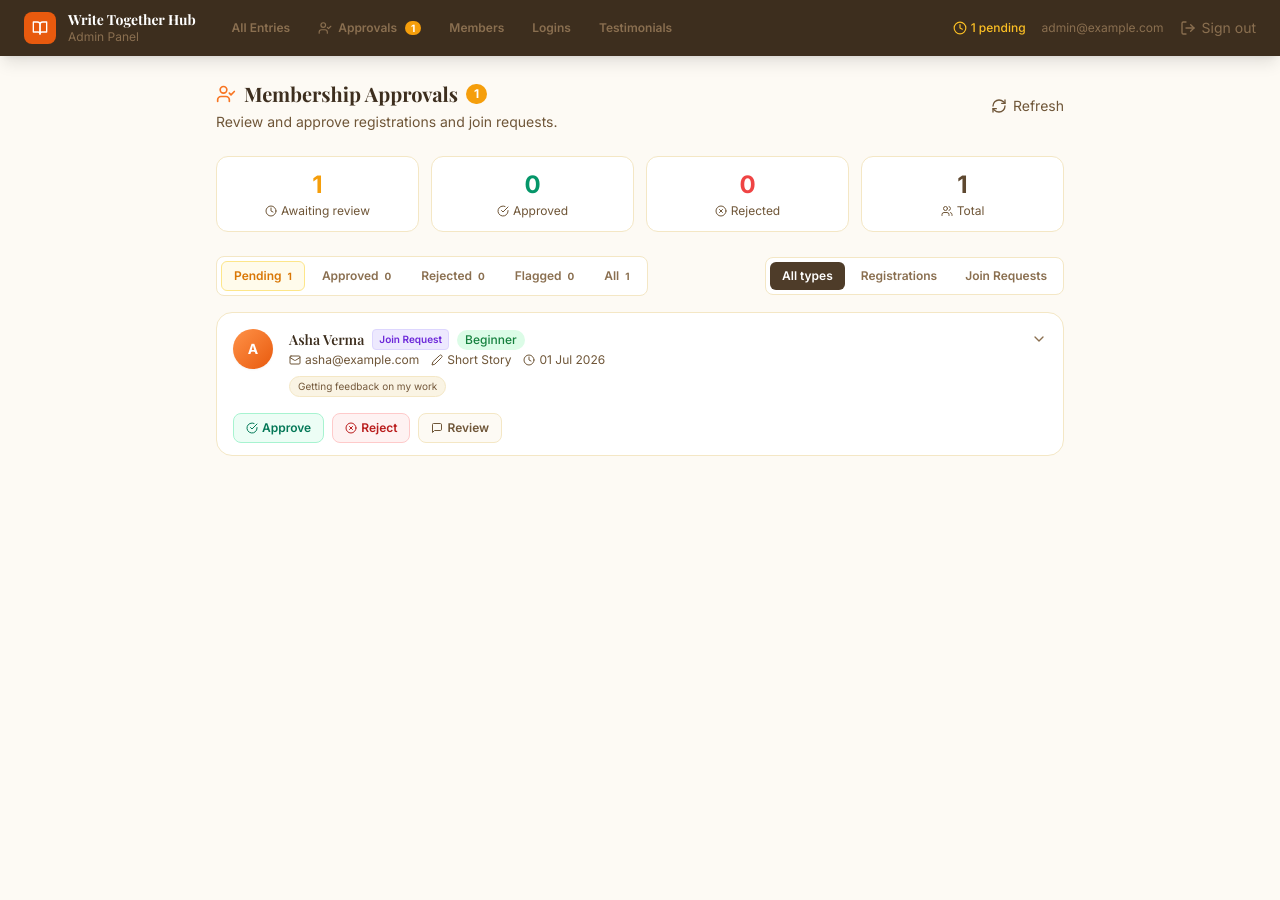
Test: AdminApprovals approve flow › warns when the person is approved but the email could not be sent
The image size is (1280, 900).
Click the button "Approve". click: (279, 428)
box: [233,413,324,443]
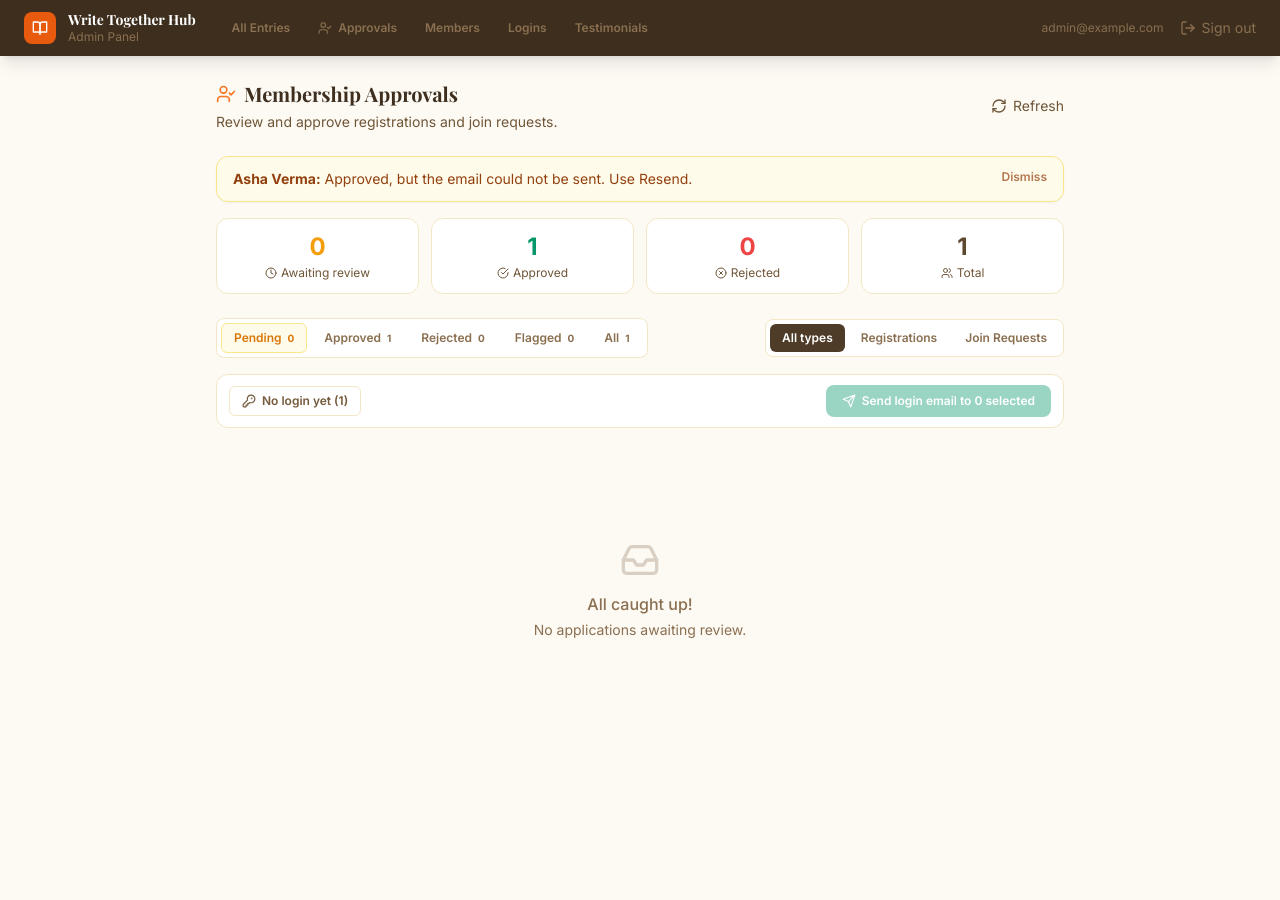
Now the text "Approved, but the email could not be sent" is shown, box [325,170,692,187]
Now the text "All caught up!" is shown, box [587,592,693,616]
